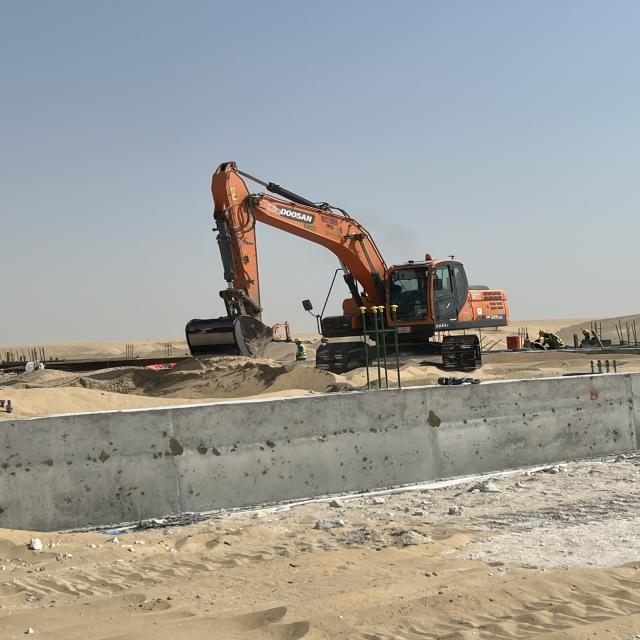Excavator: (182, 158, 508, 374)
